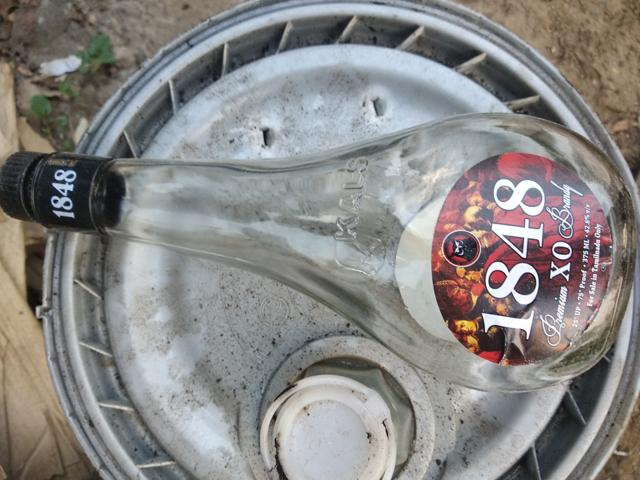botol_kaca: (6, 104, 640, 401)
